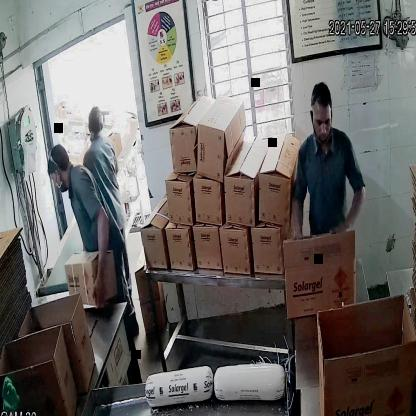no_goggles: (310, 109, 336, 132)
